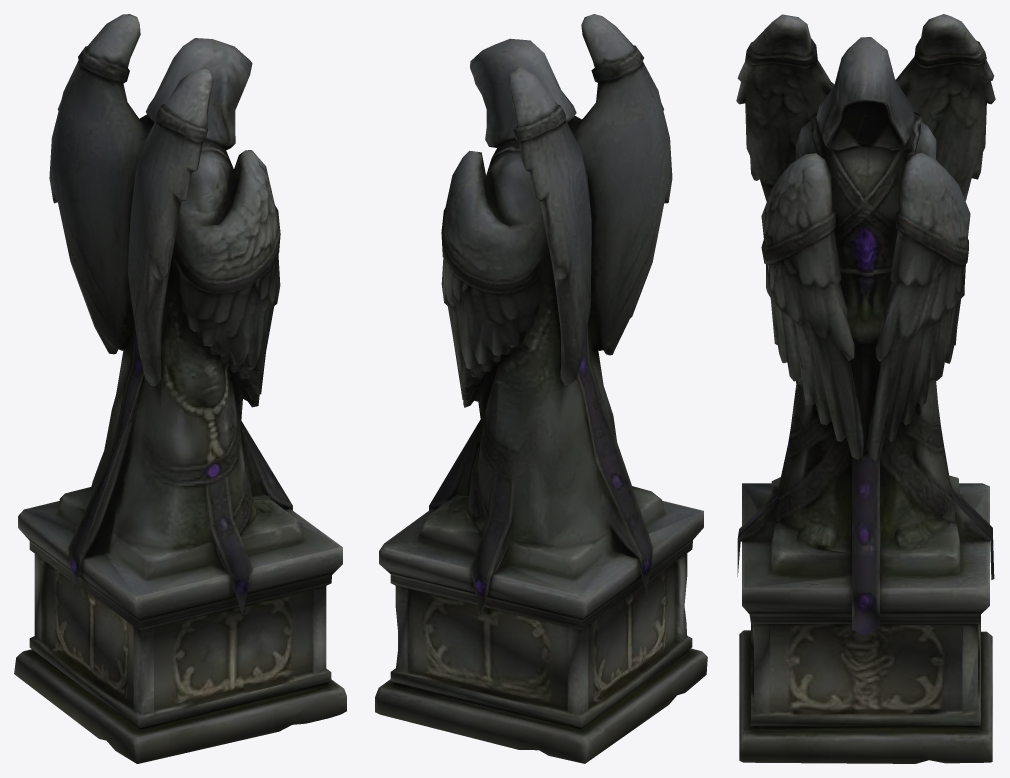
Rendered from statue.glb.
3 views of the same model, side by side, from view 1: azimuth 30°, elevation 25°; view 2: azimuth 150°, elevation 25°; view 3: azimuth 270°, elevation 25° (orthographic). The views are drawn at different scales.
Parts seen in each view (by area): view 1: tripo_node_428f3e95-191d-47c0-9506-11bb87707520; view 2: tripo_node_428f3e95-191d-47c0-9506-11bb87707520; view 3: tripo_node_428f3e95-191d-47c0-9506-11bb87707520.
Boxes of the visible parts, box(x1,y1,x2,y2) form: tripo_node_428f3e95-191d-47c0-9506-11bb87707520: box(14, 14, 346, 763); tripo_node_428f3e95-191d-47c0-9506-11bb87707520: box(375, 14, 707, 763); tripo_node_428f3e95-191d-47c0-9506-11bb87707520: box(736, 14, 995, 763).
Bounding box in the file's own units: 0.3379 × 0.998 × 0.3418.
Materials: 1 (1 with a texture image).
